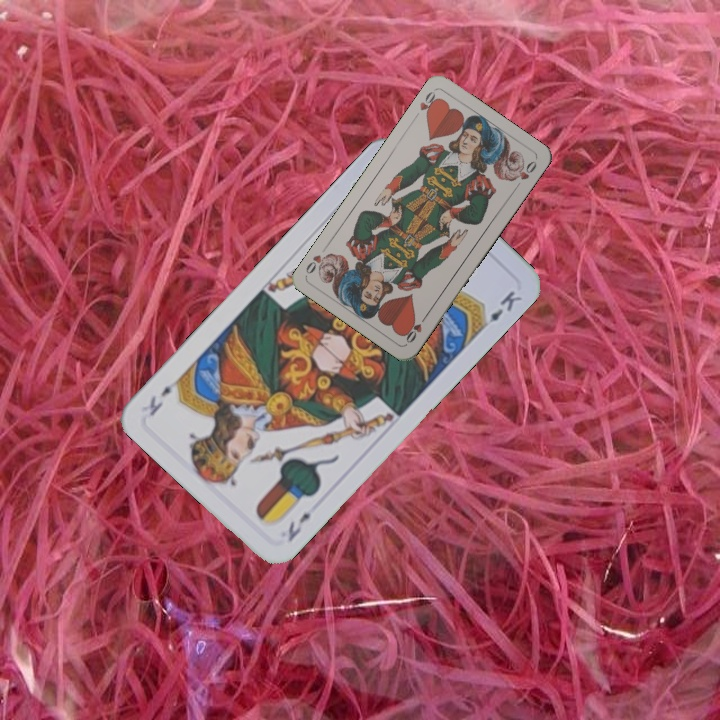EK: (283, 508, 314, 545)
HO: (410, 87, 442, 122), (401, 310, 430, 346)
